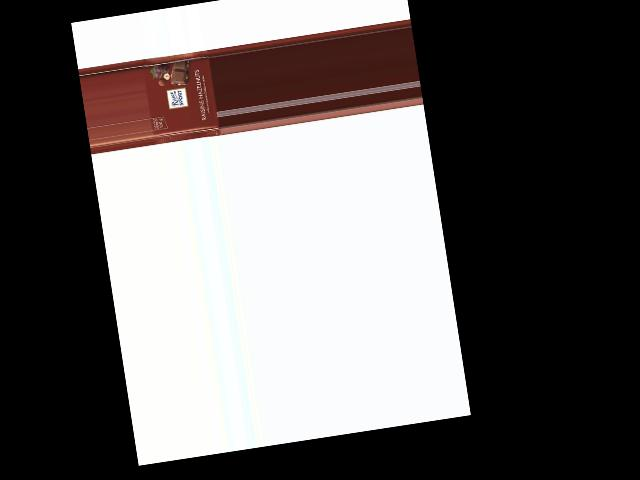chocolate: (141, 48, 221, 145)
